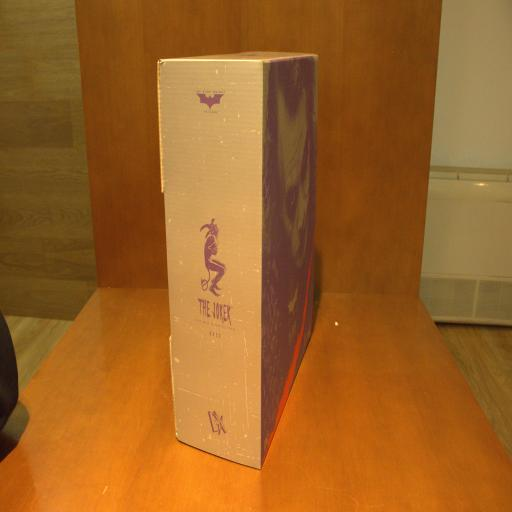Joker: (156, 54, 320, 468)
